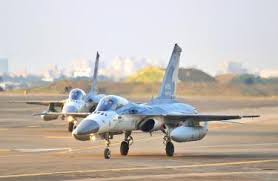fighter: (34, 44, 250, 162), (14, 50, 147, 131)
